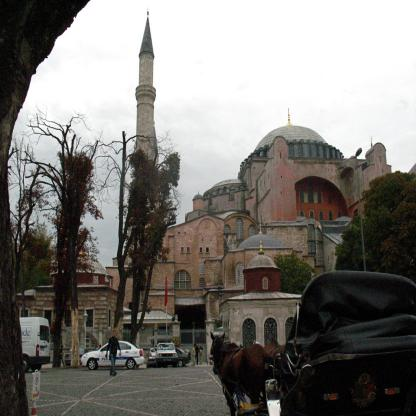Car: (86, 344, 144, 379), (158, 345, 177, 368), (146, 350, 168, 368), (65, 348, 85, 365), (176, 350, 193, 368)
